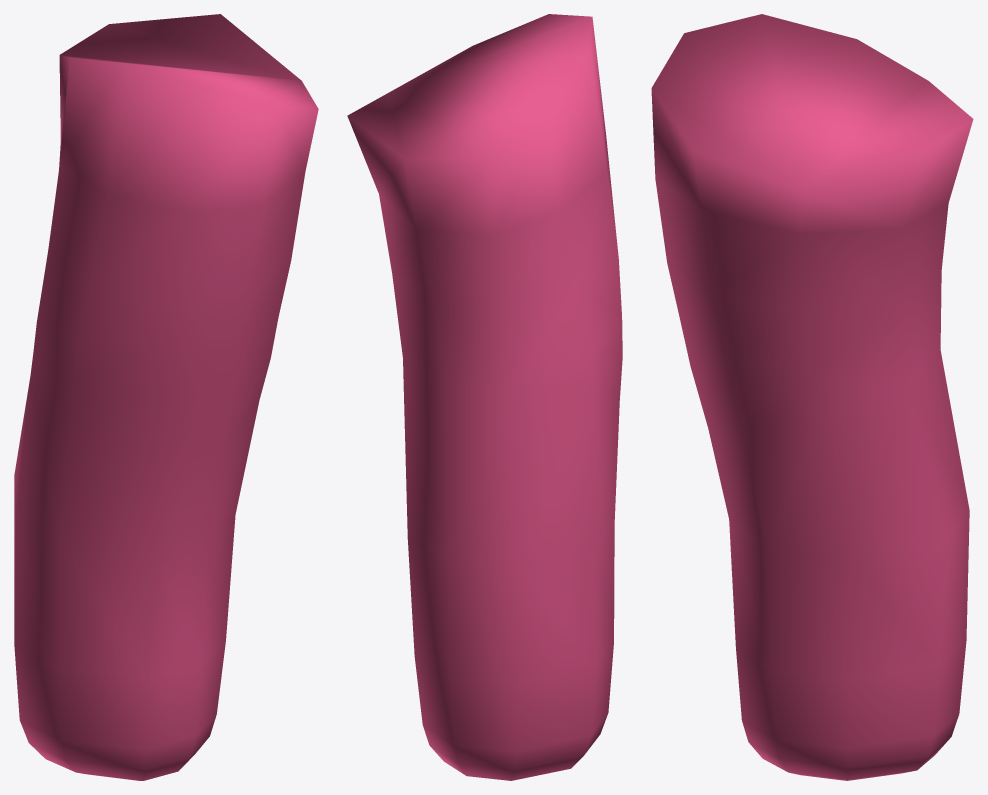
The model's file is rightLegEnemy.fbx.
3 views of the same model, side by side, from view 1: azimuth 30°, elevation 25°; view 2: azimuth 150°, elevation 25°; view 3: azimuth 270°, elevation 25° (orthographic). The views are drawn at different scales.
Visible parts, largest first — view 1: Stickman_heads_sphere.006; view 2: Stickman_heads_sphere.006; view 3: Stickman_heads_sphere.006.
Part boxes in pixels (<box>): Stickman_heads_sphere.006: <box>14,14,318,780</box>; Stickman_heads_sphere.006: <box>347,14,622,780</box>; Stickman_heads_sphere.006: <box>651,14,973,780</box>.
Bounding box in the file's own units: 0.1983 × 0.546 × 0.2175.
Materials: 1 (1 with a texture image).
